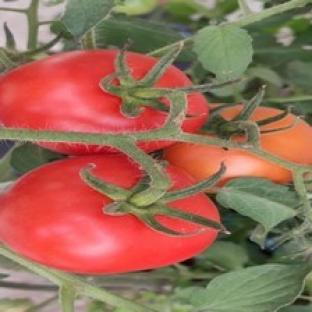Tomato: (0, 155, 217, 274), (0, 51, 168, 133), (165, 143, 292, 185)
